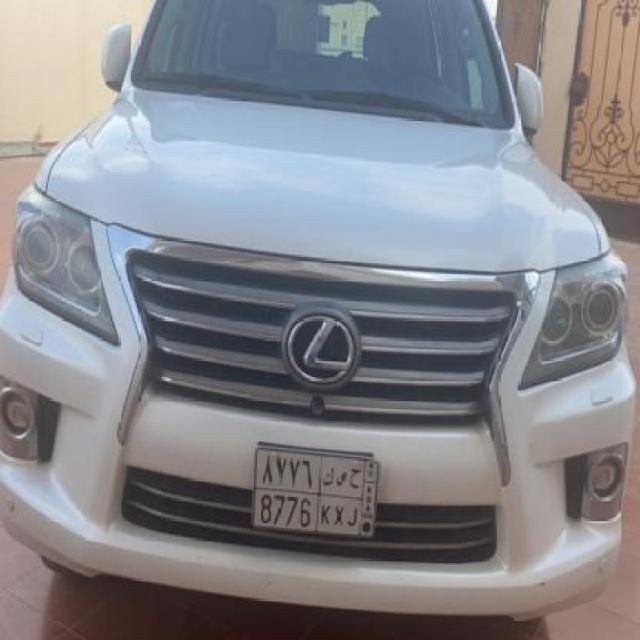license_plate: (252, 443, 381, 542)
